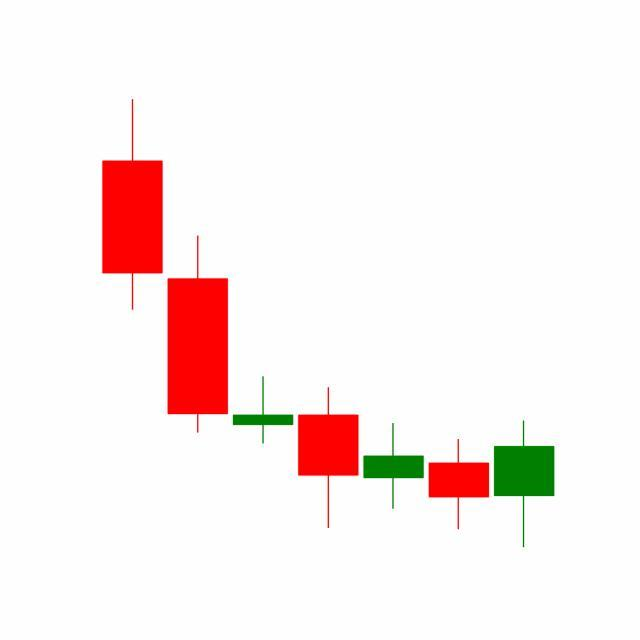Hikkake Pattern: (165, 233, 492, 534)
